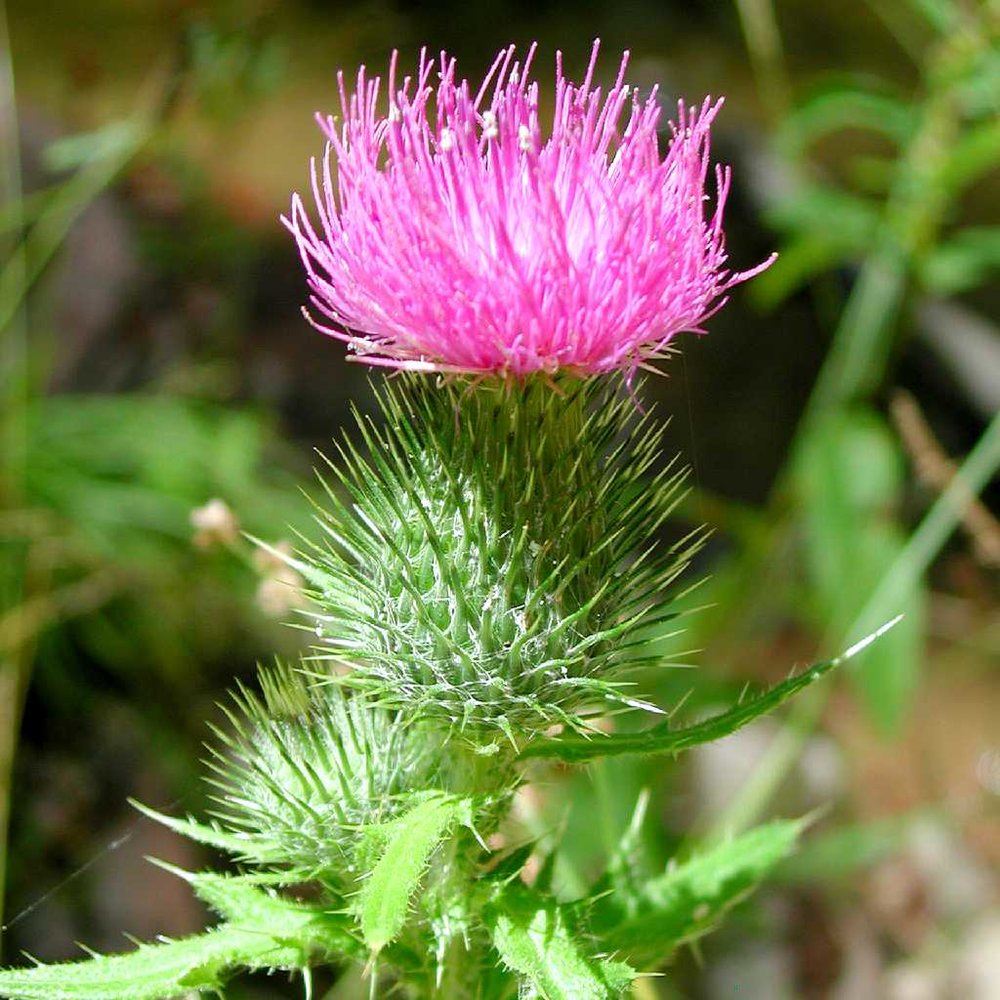bull thistle: (240, 42, 781, 752)
